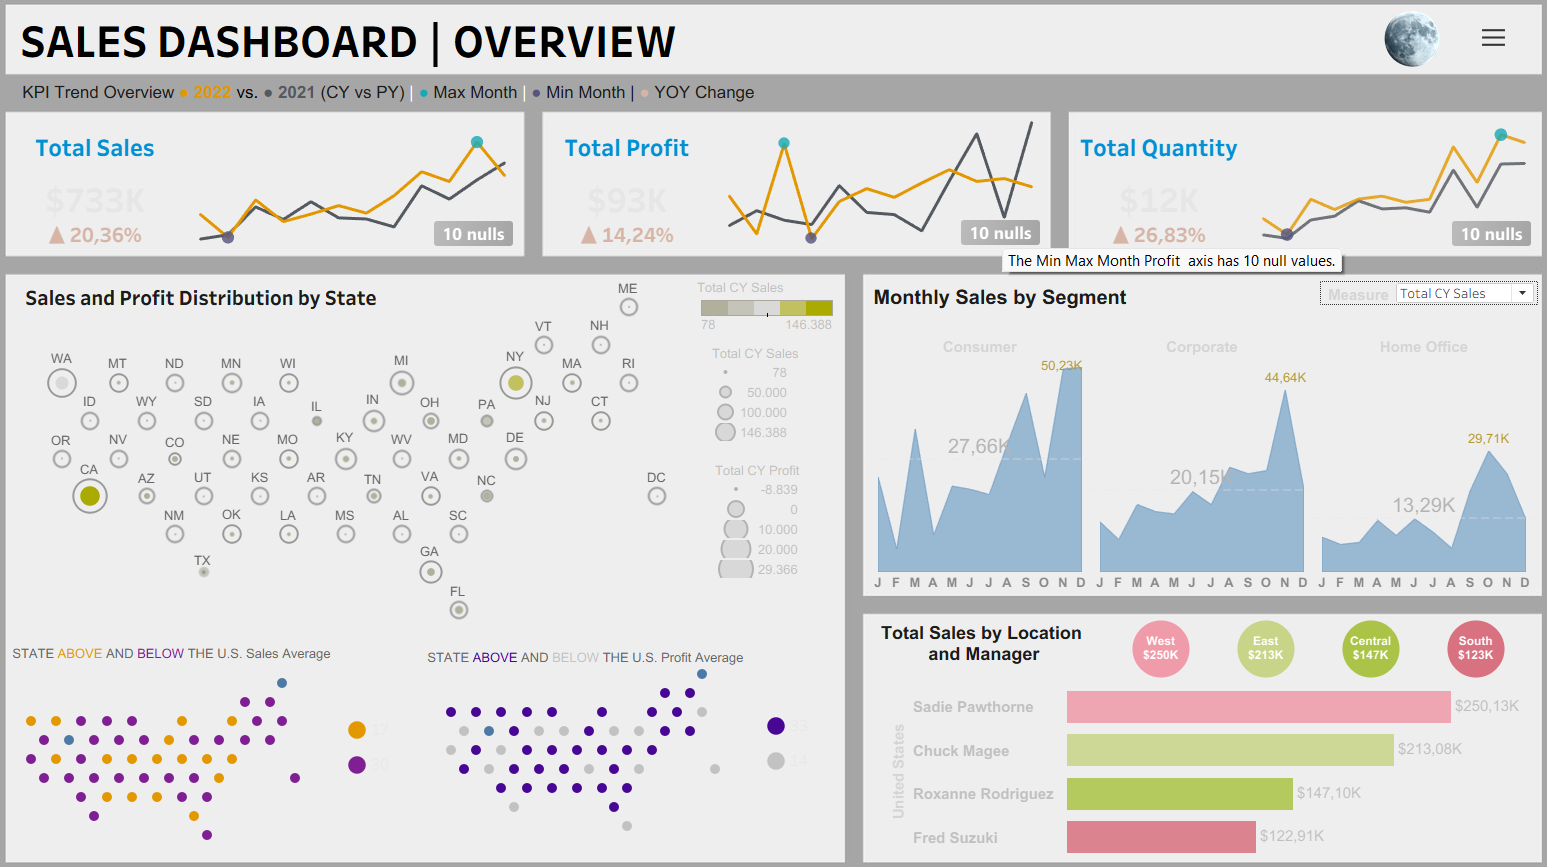

What the dashboard file says about the page in this screenshot:
{"tool":"tableau","page":{"name":"Sales Dashboard Light Background","canvas":[1600,900],"ordinal":1},"visuals":[{"type":"image","param":"Image/Sales Dashboard Background.jpg","box":[8,8,1584,884]},{"type":"text","box":[42,9,846,94]},{"type":"dashboard-object","box":[1342,22,189,67]},{"type":"dashboard-object","box":[1506,40,25,29]},{"type":"filter","title":"Sales and Profit by State","param":"[federated.1jslovf1td6a3t1cx7vjw1skrsrb].[none:Category:nk]","box":[1307,91,193,77]},{"type":"text","box":[44,92,917,34]},{"type":"worksheet","title":"Sales KPI","mark":"Automatic","box":[33,130,174,142]},{"type":"worksheet","title":"Sales Sparkline","mark":"Automatic","rows":["Calculation_1239480993312781"],"cols":["Order Date"],"box":[207,130,339.8,142]},{"type":"worksheet","title":"Profit KPI","mark":"Automatic","box":[568,130,168,141]},{"type":"worksheet","title":"Profit Sparkline","mark":"Automatic","rows":["Min Max Month Sales (copy)_1239480997572622"],"cols":["Order Date"],"box":[736,130,337.9,141]},{"type":"worksheet","title":"Qty KPI","mark":"Automatic","box":[1095,130,177,142]},{"type":"worksheet","title":"Qty Sparkline","mark":"Automatic","rows":["Min Max Month Sales (copy)_1239480999002127"],"cols":["Order Date"],"box":[1272,130,293,142]},{"type":"filter","title":"Sales and Profit by State","param":"[federated.1jslovf1td6a3t1cx7vjw1skrsrb].[none:Region:nk]","box":[1307,168,193,76]},{"type":"filter","title":"Sales and Profit by State","param":"[federated.1jslovf1td6a3t1cx7vjw1skrsrb].[none:Ship Mode:nk]","box":[1307,244,193,76]},{"type":"worksheet","title":"Sales and Profit by State","mark":"Circle","rows":["Row"],"cols":["Column","Column"],"box":[43,286,678,379]},{"type":"text","box":[47,289,393,49]},{"type":"legend","title":"Sales and Profit by State","param":"[federated.1jslovf1td6a3t1cx7vjw1skrsrb].[sum:Calculation_1101767049629696:qk]","box":[722,297,140,88]},{"type":"parameter","param":"[Parameters].[Parameter 1006111943872512]","box":[1345,298,218,24]},{"type":"text","box":[895,299,282,30]},{"type":"worksheet","title":"Monthly Sales by Segment","mark":"Area","rows":["Calculation_1006111944482817"],"cols":["Segment","Order Date"],"box":[894,354,666,255]},{"type":"legend","title":"Sales and Profit by State","param":"[federated.1jslovf1td6a3t1cx7vjw1skrsrb].[sum:Calculation_1101767049629696:qk]","box":[737,363,140,106]},{"type":"legend","title":"Sales and Profit by State","param":"[federated.1jslovf1td6a3t1cx7vjw1skrsrb].[sum:Total CY Sales (copy)_123948098728","box":[740,480,140,127]},{"type":"worksheet","title":"Region wise Sales","mark":"Circle","cols":["Region"],"box":[1133,634,420,63]},{"type":"text","box":[854,636,305,50]},{"type":"text","box":[34,656,325,30]},{"type":"text","box":[449,660,323,30]},{"type":"worksheet","title":"Average Profit by State","mark":"Circle","rows":["Row"],"cols":["Column"],"box":[458,672,300,190]},{"type":"worksheet","title":"Average Sales by State","mark":"Circle","rows":["Row"],"cols":["Column"],"box":[38,681,300,190]},{"type":"worksheet","title":"Total Sales by Location and Manager","mark":"Automatic","rows":["Country/Region","Regional Manager"],"cols":["Calculation_1101767049629696"],"box":[892,702,676,174]},{"type":"worksheet","title":"Avg Profit by State count ","mark":"Circle","rows":["Sales Average Color (copy)_1309851801698308"],"box":[766,725,70,70]},{"type":"worksheet","title":"Avg Sales by State count ","mark":"Circle","rows":["Calculation_0821942183194626"],"box":[347,729,70,70]}]}

Visuals, with their boxes in screenshot pixels (x1, y1, x2, y2), scaled from the page's 1600x900 canvas onto the 1547x867 screenshot:
image: rect(8, 8, 1539, 859)
text: rect(41, 9, 859, 99)
dashboard-object: rect(1298, 21, 1480, 86)
dashboard-object: rect(1456, 39, 1480, 66)
"Sales and Profit by State" filter: rect(1264, 88, 1450, 162)
text: rect(43, 89, 929, 121)
"Sales KPI" worksheet: rect(32, 125, 200, 262)
"Sales Sparkline" worksheet: rect(200, 125, 529, 262)
"Profit KPI" worksheet: rect(549, 125, 712, 261)
"Profit Sparkline" worksheet: rect(712, 125, 1038, 261)
"Qty KPI" worksheet: rect(1059, 125, 1230, 262)
"Qty Sparkline" worksheet: rect(1230, 125, 1513, 262)
"Sales and Profit by State" filter: rect(1264, 162, 1450, 235)
"Sales and Profit by State" filter: rect(1264, 235, 1450, 308)
"Sales and Profit by State" worksheet (Circle marks): rect(42, 276, 697, 641)
text: rect(45, 278, 425, 326)
"Sales and Profit by State" legend: rect(698, 286, 833, 371)
parameter: rect(1300, 287, 1511, 310)
text: rect(865, 288, 1138, 317)
"Monthly Sales by Segment" worksheet (Area marks): rect(864, 341, 1508, 587)
"Sales and Profit by State" legend: rect(713, 350, 848, 452)
"Sales and Profit by State" legend: rect(715, 462, 851, 585)
"Region wise Sales" worksheet (Circle marks): rect(1095, 611, 1502, 671)
text: rect(826, 613, 1121, 661)
text: rect(33, 632, 347, 661)
text: rect(434, 636, 746, 665)
"Average Profit by State" worksheet (Circle marks): rect(443, 647, 733, 830)
"Average Sales by State" worksheet (Circle marks): rect(37, 656, 327, 839)
"Total Sales by Location and Manager" worksheet: rect(862, 676, 1516, 844)
"Avg Profit by State count " worksheet (Circle marks): rect(741, 698, 808, 766)
"Avg Sales by State count " worksheet (Circle marks): rect(336, 702, 403, 770)
